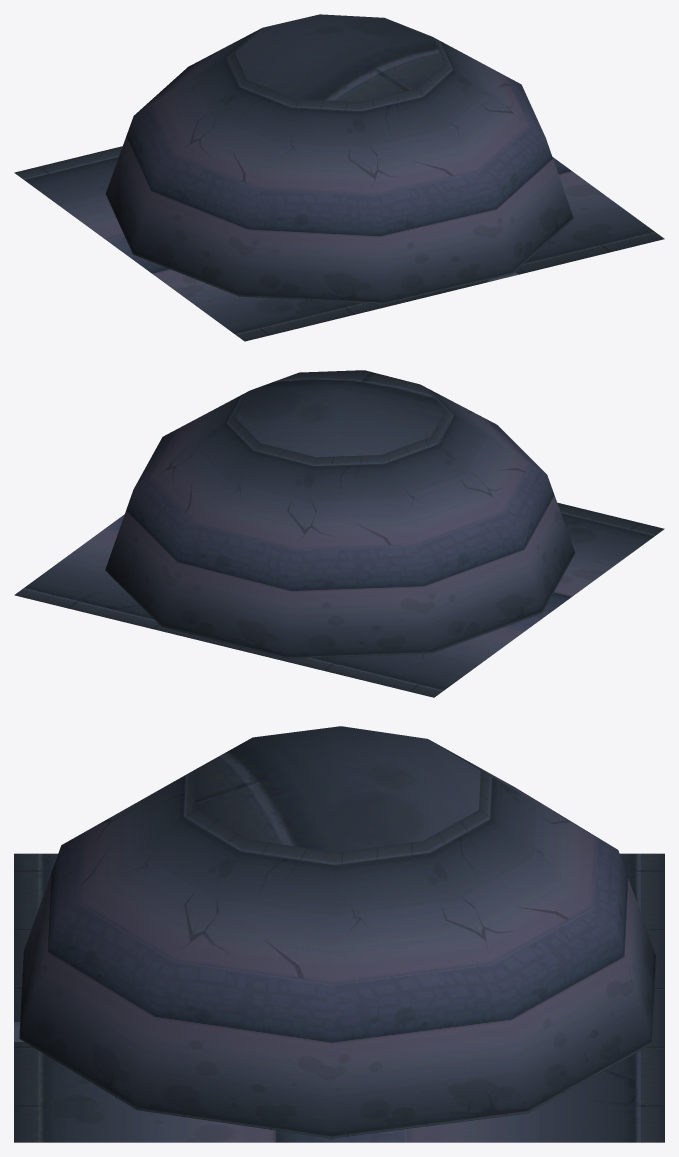
File: Combined_Mesh_root_scene__14_f2bde634__churchyard_diffuse_01_8d806139_c1f257.obj
The picture shows the model from 3 angles, top to bottom: view 1: azimuth 30°, elevation 25°; view 2: azimuth 150°, elevation 25°; view 3: azimuth 270°, elevation 25°; orthographic projection. The views are drawn at different scales.
Size of the model in its own units: 139 by 56.25 by 132.
Materials: 190 (190 with a texture image).
